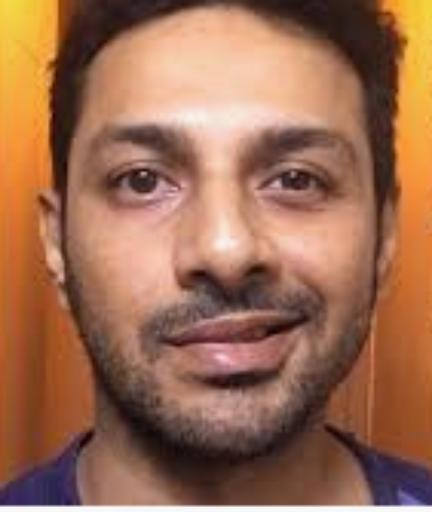left_eye: (255, 168, 333, 201)
left_lip_corner: (289, 309, 315, 336)
right_eye: (104, 166, 182, 203)
right_lip_corner: (154, 332, 184, 356)
